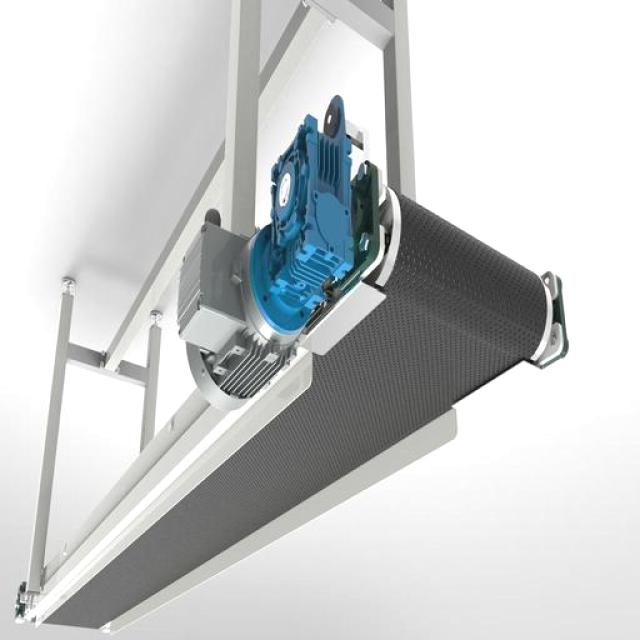conveyor: (32, 188, 551, 629)
